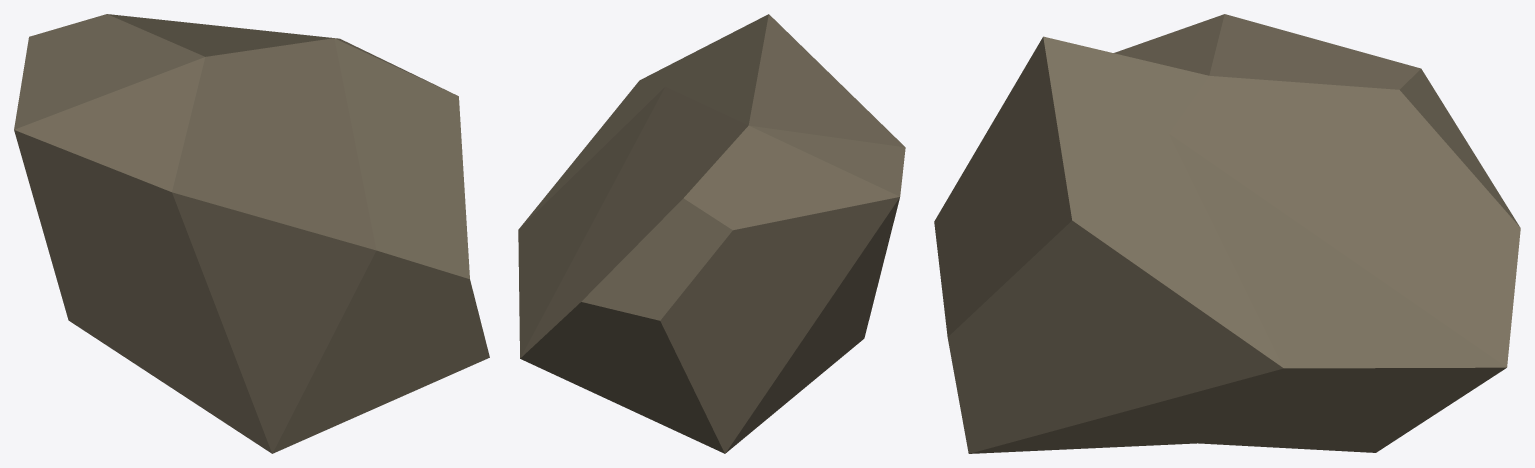
Rendered from Rock_5.fbx.
The picture shows the model from 3 angles, left to right: view 1: azimuth 30°, elevation 25°; view 2: azimuth 150°, elevation 25°; view 3: azimuth 270°, elevation 25°; orthographic projection. The views are drawn at different scales.
Parts seen in each view (by area): view 1: rock_5; view 2: rock_5; view 3: rock_5.
Boxes of the visible parts, bbox=[...] form: rock_5: bbox=[14, 14, 489, 453]; rock_5: bbox=[518, 14, 905, 453]; rock_5: bbox=[934, 14, 1520, 453].
Bounding box in the file's own units: 45.83 × 39.32 × 50.99.
